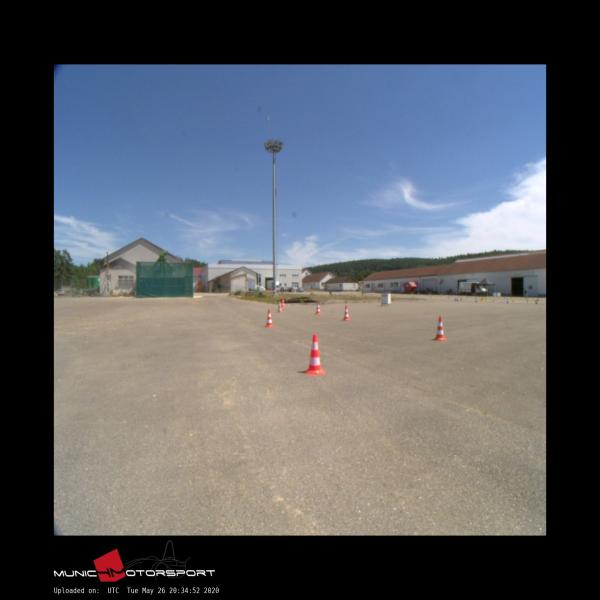large_orange_cone: (305, 334, 325, 375), (434, 315, 445, 340), (264, 309, 274, 327), (342, 306, 350, 320), (315, 301, 321, 314), (276, 301, 282, 312), (281, 298, 285, 307)
